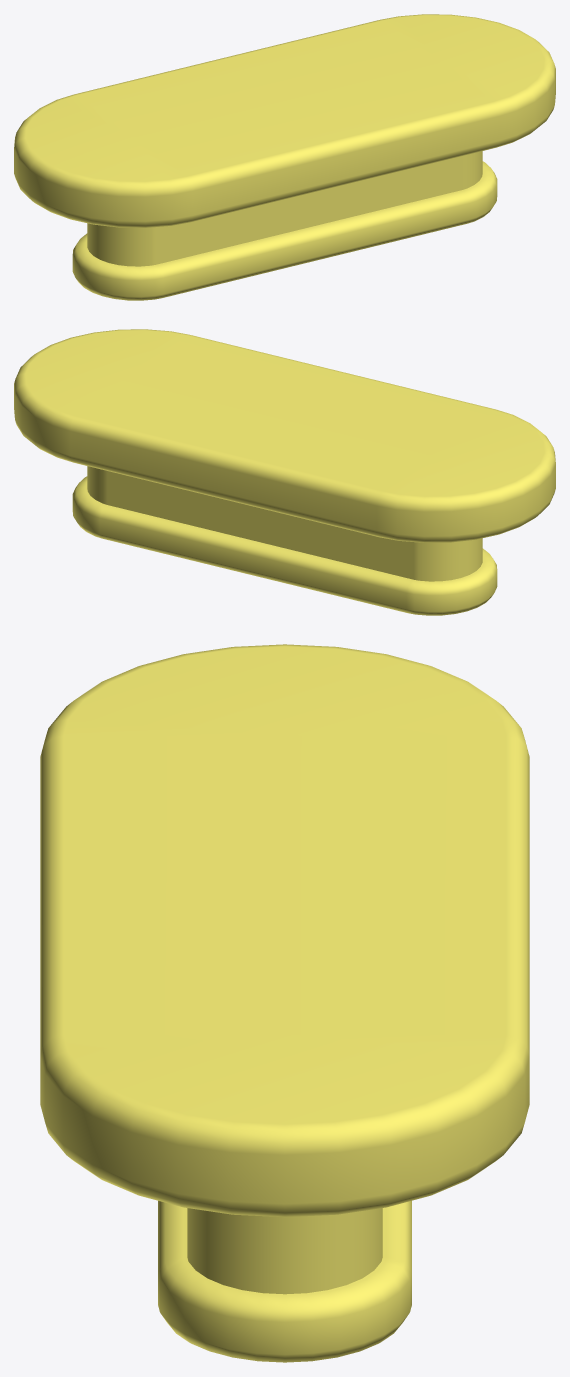
Rendered from Isl_2_Shelf_1.fbx.
The picture shows the model from 3 angles, top to bottom: view 1: azimuth 30°, elevation 25°; view 2: azimuth 150°, elevation 25°; view 3: azimuth 270°, elevation 25°; orthographic projection. The views are drawn at different scales.
Parts seen in each view (by area): view 1: Isl_2_Shelf_1; view 2: Isl_2_Shelf_1; view 3: Isl_2_Shelf_1.
Boxes of the visible parts, x1,y1,x2,y2 form: Isl_2_Shelf_1: (14, 14, 555, 300); Isl_2_Shelf_1: (14, 329, 555, 615); Isl_2_Shelf_1: (40, 644, 529, 1362).
Size of the model in its own units: 300 by 80.37 by 125.
